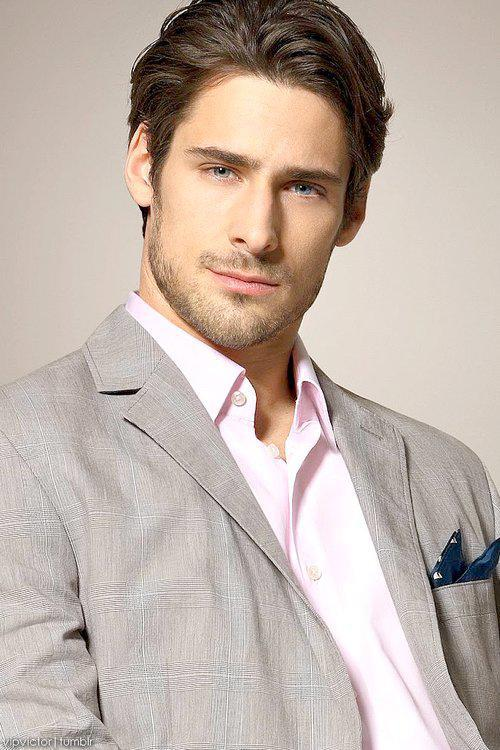Sober: (164, 89, 333, 351)
